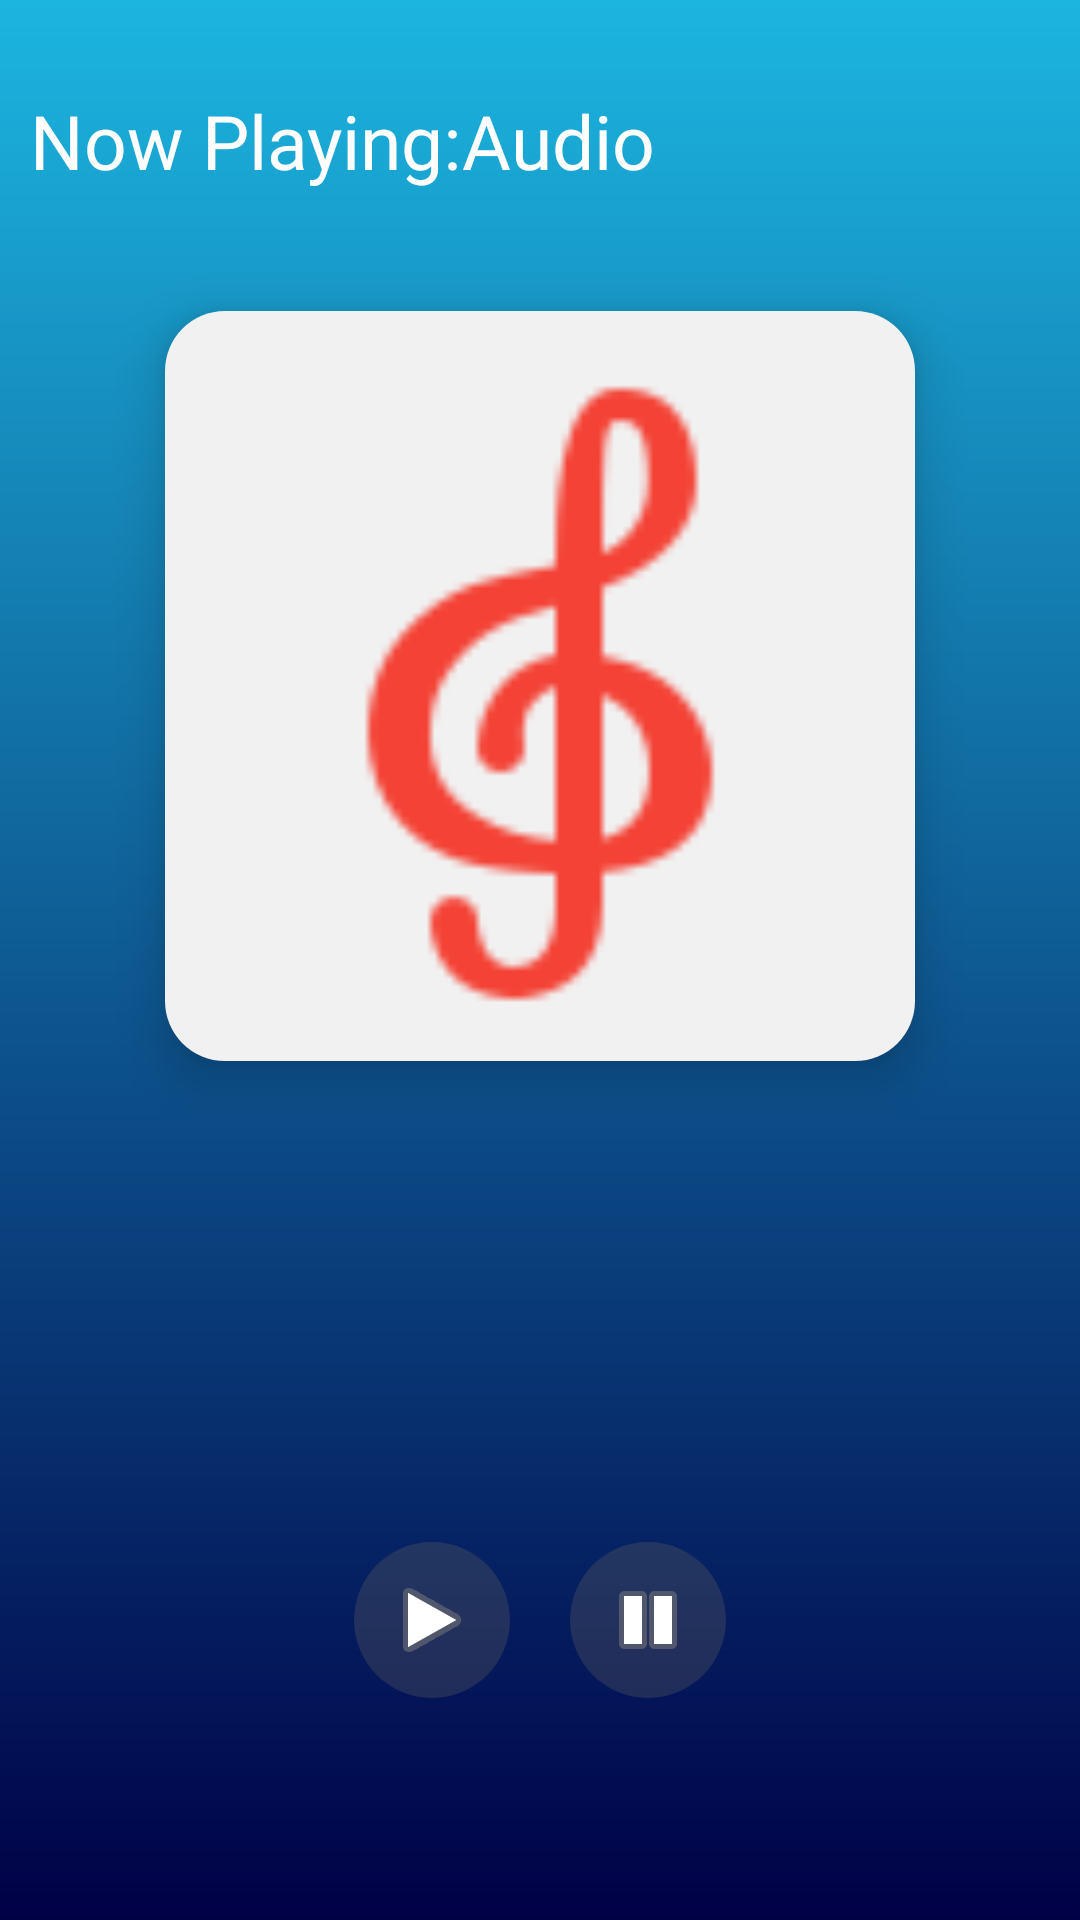

Where to tap for icons on this 1080px×1920px app screen, as (x,y):
pause: (648,1620)
play: (432,1620)
